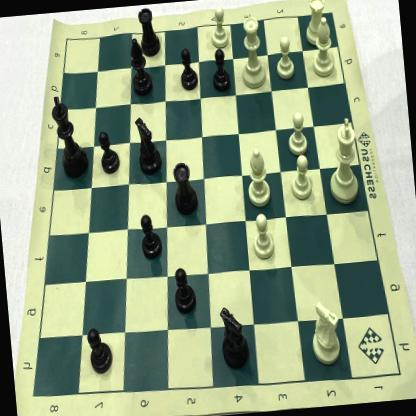black-bishop: (126, 34, 154, 98)
black-king: (47, 88, 92, 184)
black-knight: (214, 298, 252, 374), (130, 110, 165, 180)
black-pawn: (167, 262, 200, 320), (84, 319, 116, 376), (136, 206, 166, 264), (95, 124, 125, 178), (174, 45, 202, 95), (208, 45, 236, 94)
black-rook: (166, 152, 204, 224), (132, 3, 166, 61)
white-bishop: (304, 10, 339, 84), (240, 142, 276, 213)
white-king: (321, 114, 370, 209)
white-knight: (304, 295, 348, 371)
white-pawn: (247, 207, 280, 265), (286, 150, 317, 205), (204, 0, 234, 52), (270, 31, 299, 84), (285, 106, 311, 158)
white-queen: (234, 9, 270, 92)
white-rook: (299, 0, 332, 49)
